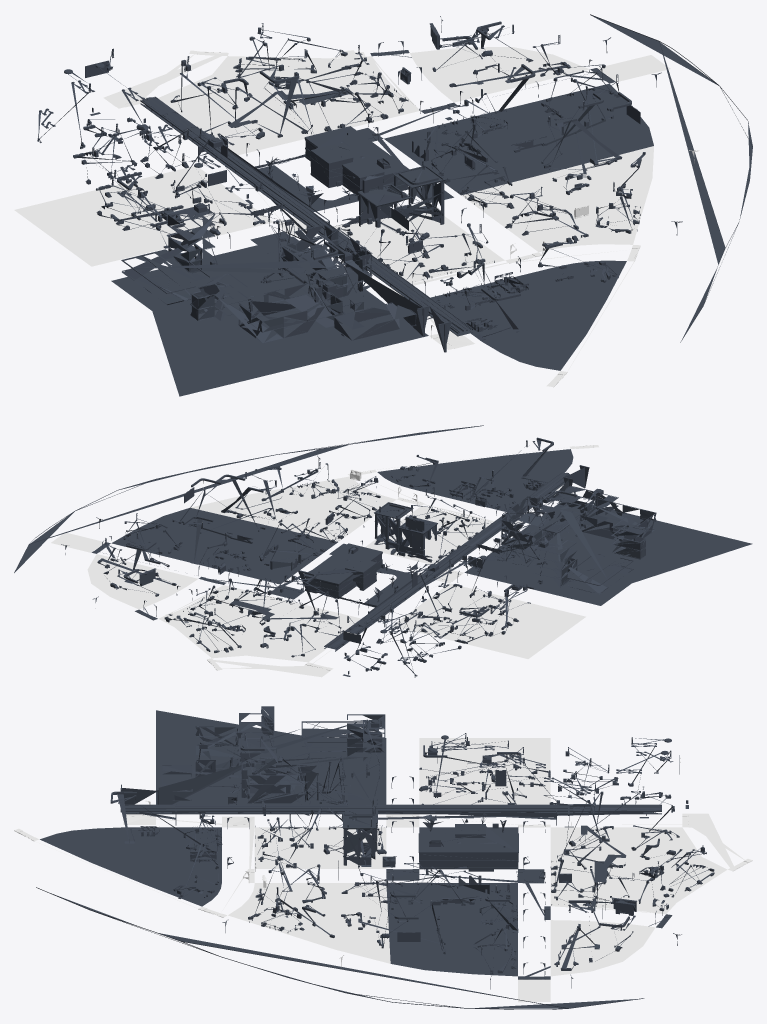
The model's file is street_island2_10.glb.
3 views of the same model, one above another, from view 1: azimuth 30°, elevation 25°; view 2: azimuth 150°, elevation 25°; view 3: azimuth 270°, elevation 25° (orthographic). The views are drawn at different scales.
Visible parts, largest first — view 1: seg_376, seg_854, seg_412, seg_414, seg_375, seg_413, seg_410, seg_409, seg_411, seg_733, seg_944, seg_1014 (+31 smaller); view 2: seg_376, seg_854, seg_414, seg_412, seg_375, seg_410, seg_413, seg_411, seg_733, seg_409, seg_1014, seg_944 (+31 smaller); view 3: seg_412, seg_414, seg_376, seg_854, seg_413, seg_410, seg_375, seg_409, seg_733, seg_411, seg_1014, seg_645 (+32 smaller).
Part boxes in pixels (left/top/right/bottom): seg_376: left=111, top=236, right=428, bottom=396; seg_854: left=121, top=207, right=416, bottom=343; seg_412: left=384, top=83, right=653, bottom=195; seg_414: left=158, top=56, right=419, bottom=155; seg_375: left=14, top=166, right=272, bottom=266; seg_413: left=430, top=260, right=626, bottom=370; seg_410: left=461, top=146, right=653, bottom=251; seg_409: left=333, top=204, right=504, bottom=283; seg_411: left=410, top=47, right=589, bottom=102; seg_733: left=304, top=126, right=409, bottom=194; seg_944: left=358, top=165, right=445, bottom=230; seg_1014: left=590, top=14, right=752, bottom=342; seg_376: left=464, top=501, right=752, bottom=605; seg_854: left=482, top=485, right=656, bottom=594; seg_414: left=158, top=585, right=360, bottom=662; seg_412: left=111, top=508, right=337, bottom=584; seg_375: left=392, top=583, right=585, bottom=658; seg_410: left=191, top=476, right=396, bottom=541; seg_413: left=377, top=449, right=573, bottom=511; seg_411: left=87, top=554, right=198, bottom=609; seg_733: left=304, top=543, right=382, bottom=598; seg_409: left=365, top=506, right=491, bottom=564; seg_1014: left=14, top=425, right=483, bottom=572; seg_944: left=374, top=502, right=437, bottom=555; seg_412: left=386, top=883, right=517, bottom=976; seg_414: left=550, top=827, right=727, bottom=914; seg_376: left=156, top=710, right=386, bottom=804; seg_854: left=161, top=706, right=385, bottom=803; seg_413: left=40, top=827, right=221, bottom=906; seg_410: left=228, top=883, right=390, bottom=963; seg_375: left=419, top=738, right=550, bottom=804; seg_409: left=254, top=827, right=386, bottom=868; seg_733: left=418, top=824, right=518, bottom=871; seg_411: left=550, top=920, right=655, bottom=976; seg_1014: left=36, top=887, right=644, bottom=1009; seg_645: left=120, top=732, right=267, bottom=812.
Size of the model in its own units: 432 by 42.17 by 449.
